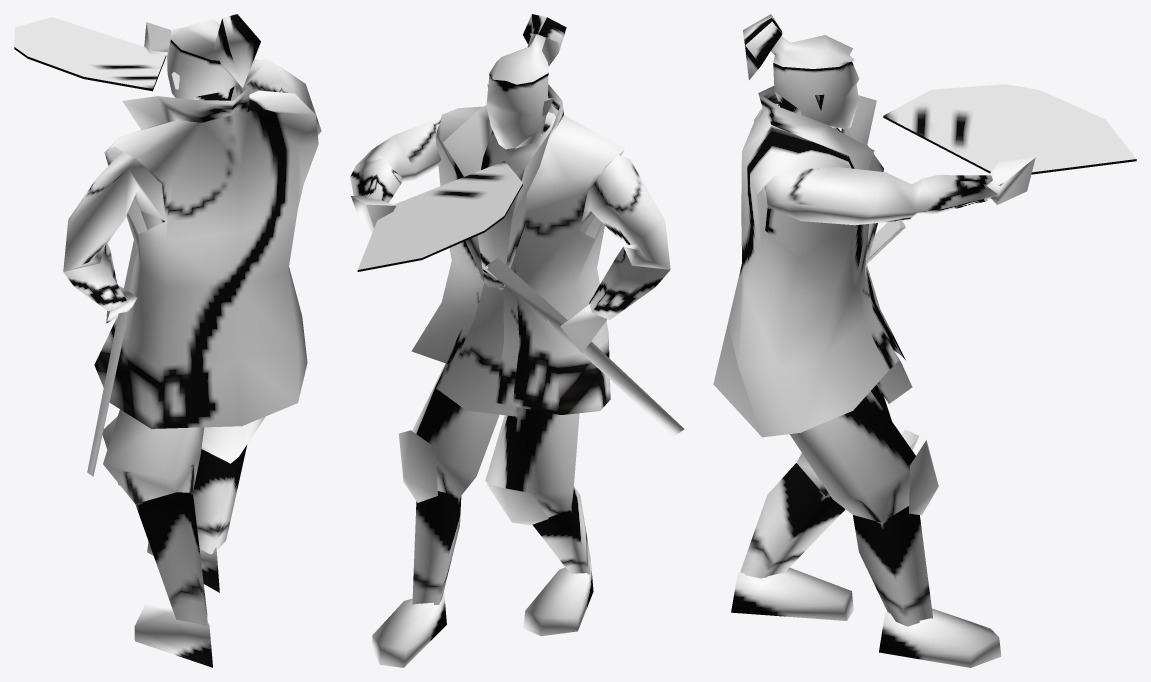
File: saveicon.ico.obj
3 renders of one model, left to right at view 1: azimuth 30°, elevation 25°; view 2: azimuth 150°, elevation 25°; view 3: azimuth 270°, elevation 25°, orthographic. The views are drawn at different scales.
Bounding box in the file's own units: 2.33 × 4.95 × 3.1.
